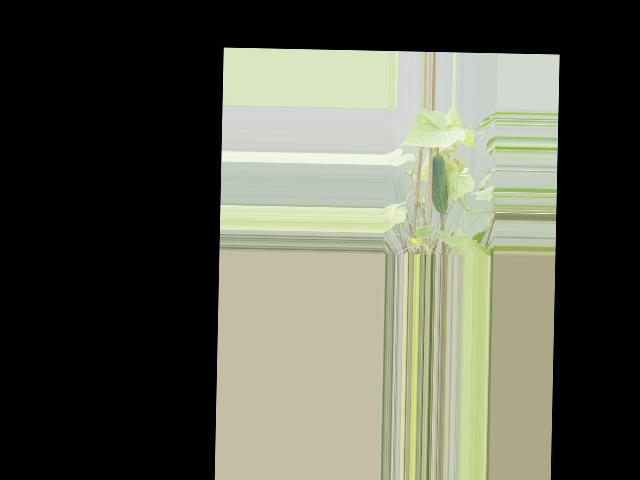cucumber: (430, 153, 449, 214)
